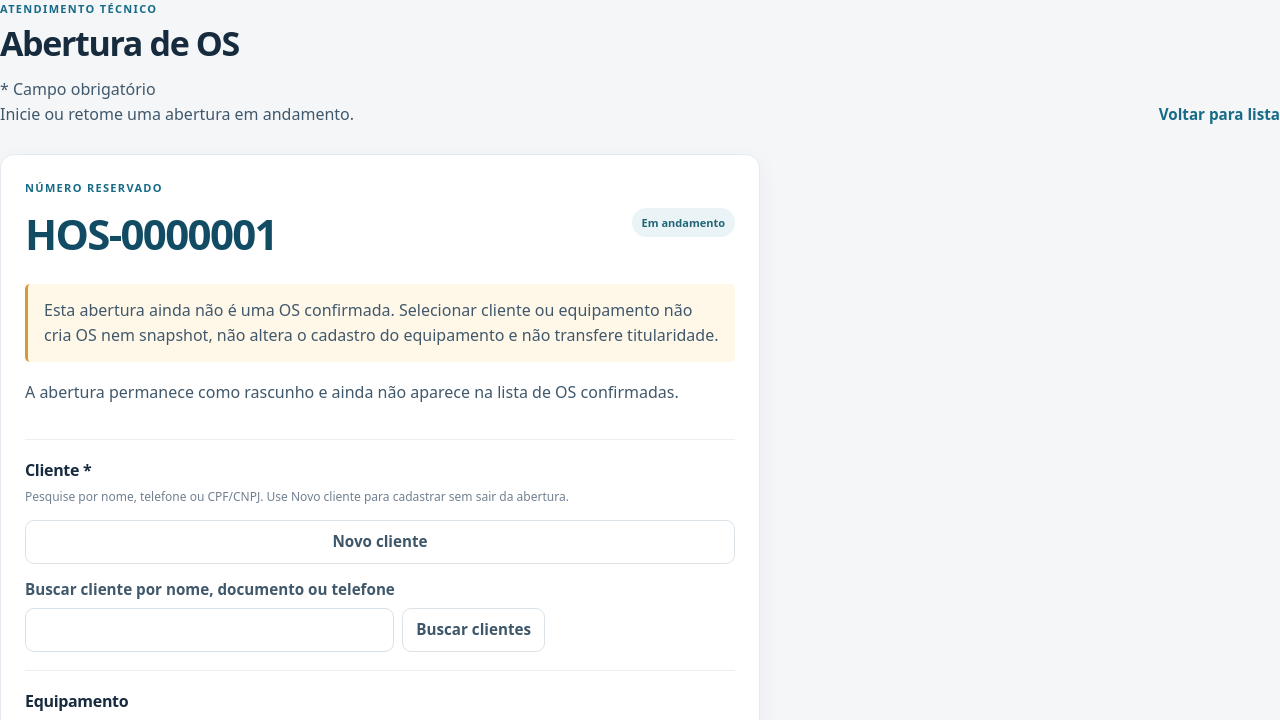
Test: novo cliente é salvo uma vez, selecionado e seus equipamentos são carregados
The width and height of the screenshot is (1280, 720).
Expected: the text "HOS-0000001" is shown, [25, 201, 277, 266]
Click the button "Novo cliente" at (380, 542), box [25, 520, 735, 564]
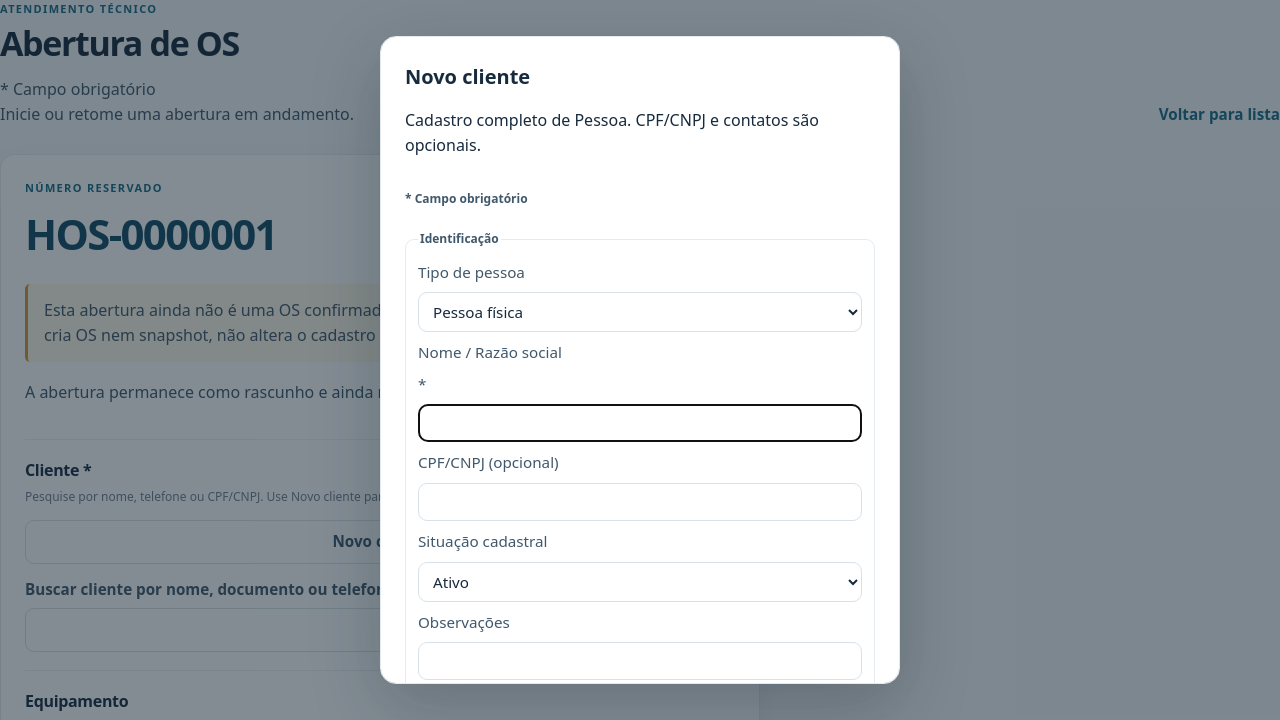
Type "Cliente novo" into the field labelled "Nome / Razão social" at (640, 424), box [418, 404, 862, 442]
(page scrolled)
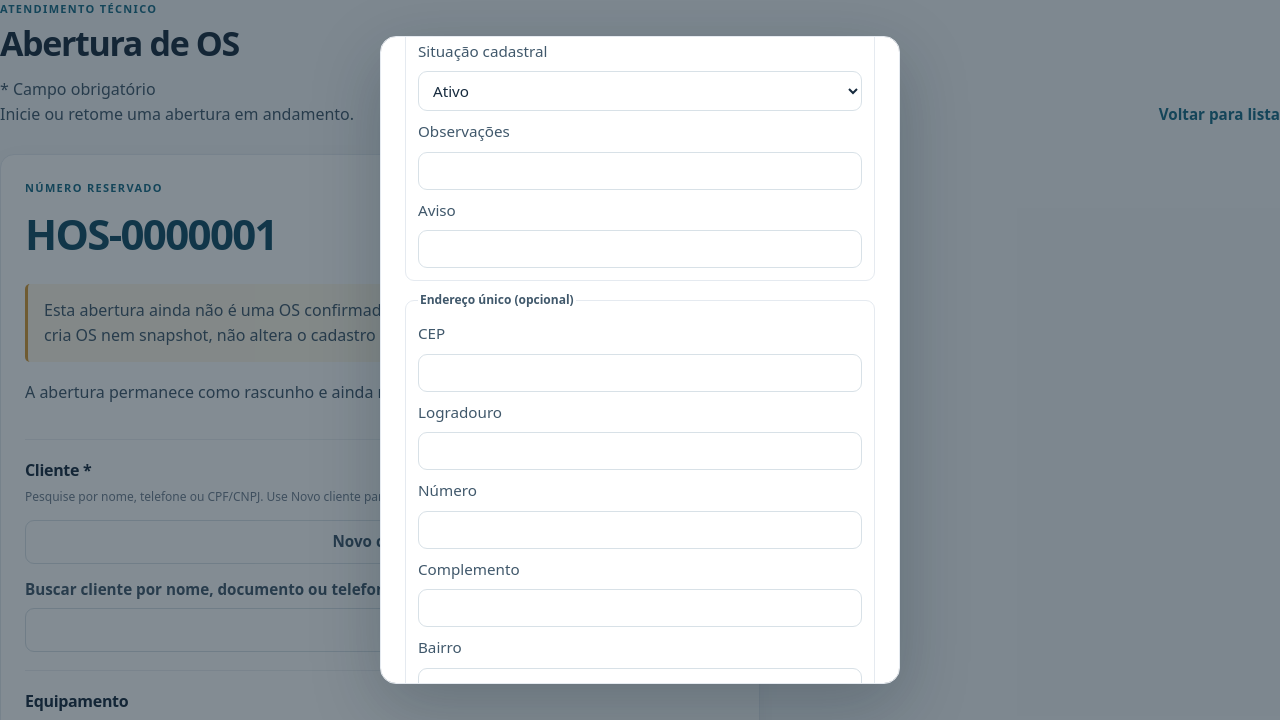
Submit the form
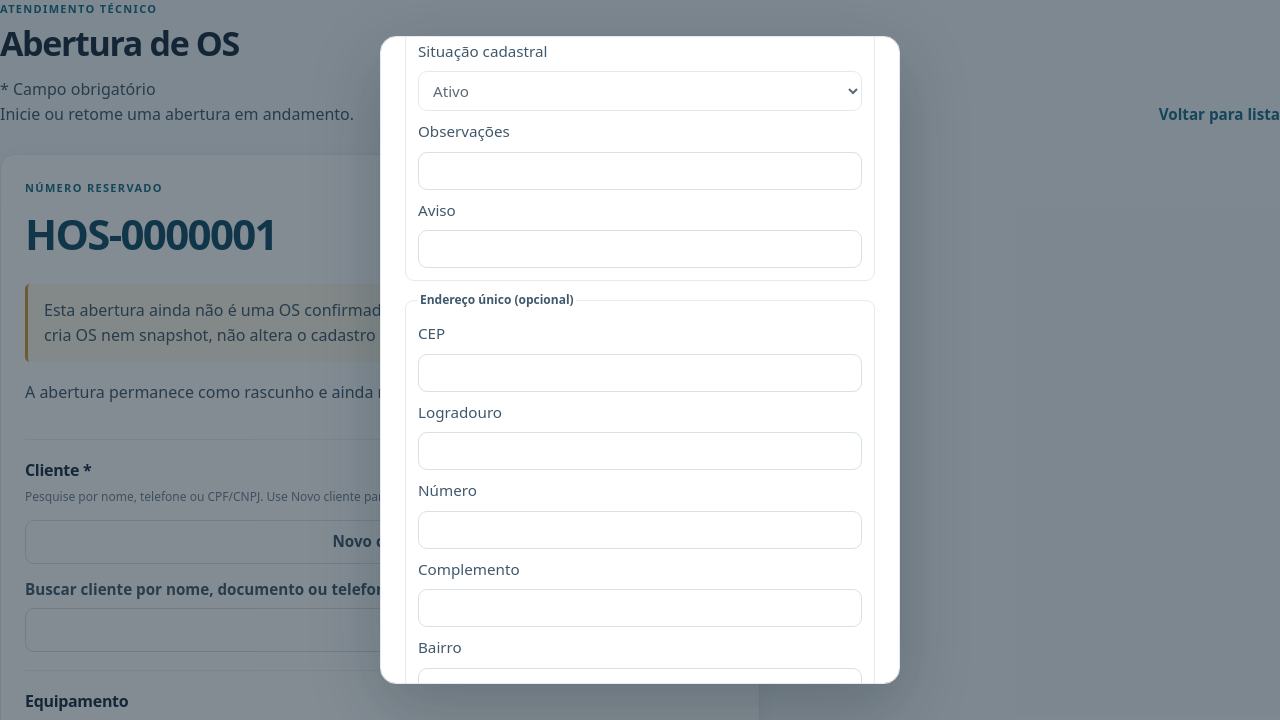
Submit the form
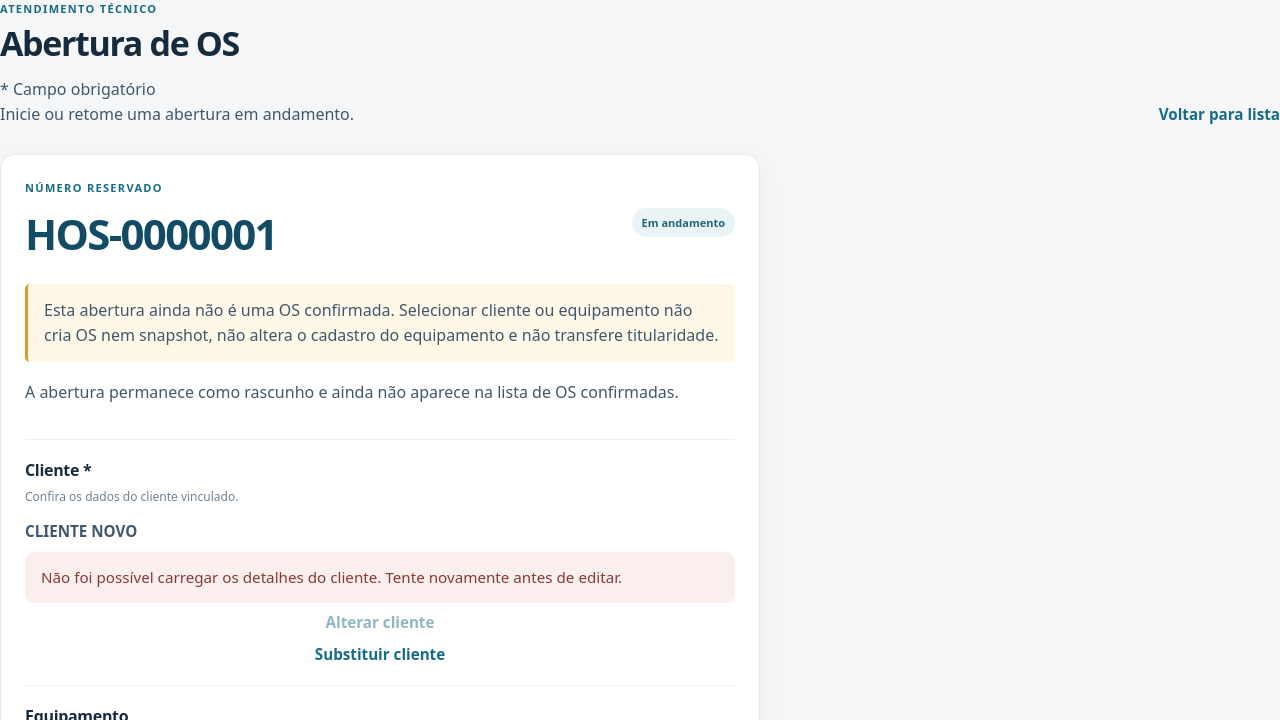
Result: the dialog is gone
Result: the text "CLIENTE NOVO" is shown at [25, 521, 137, 541]
Result: the text "Novo cliente" is gone
